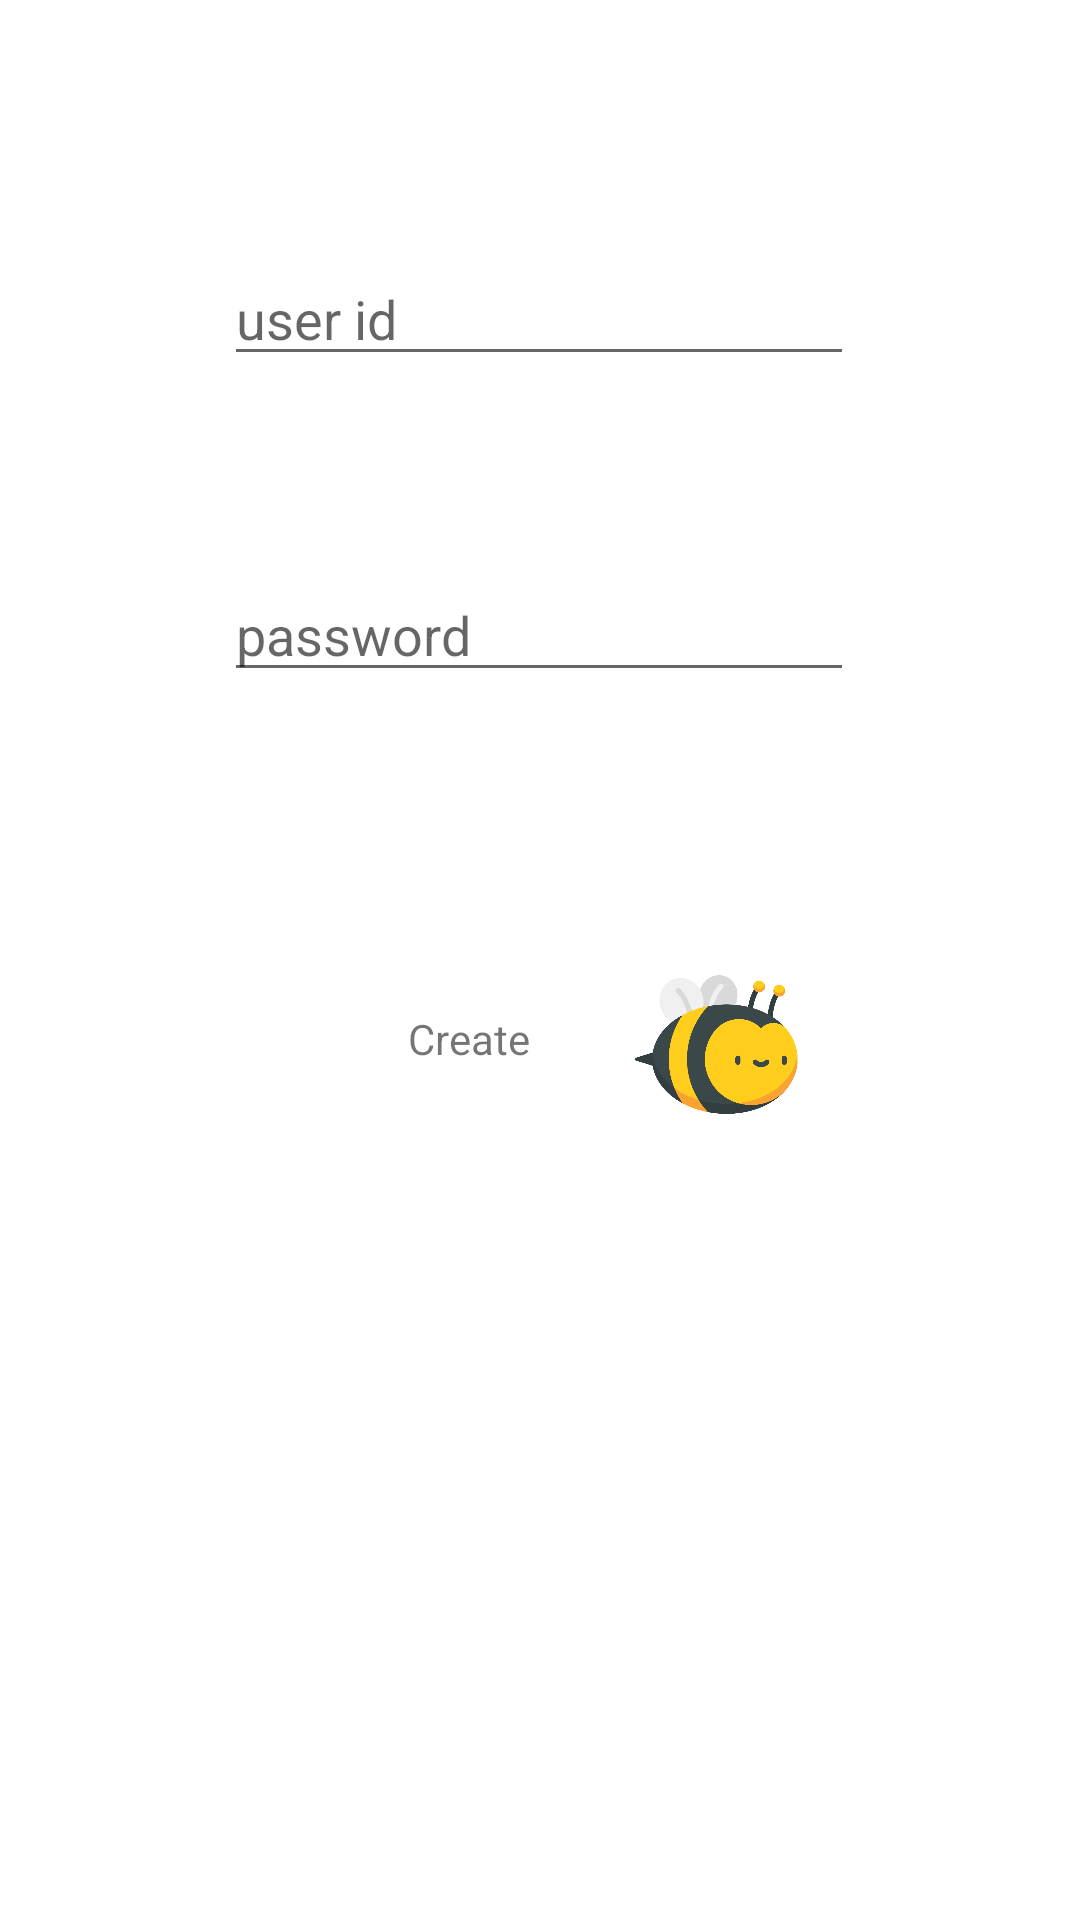

Icons on this 1080px×1920px Android screen, each with its box as rect(x1, y1, x2, y2):
beee: rect(635, 975, 798, 1114)
